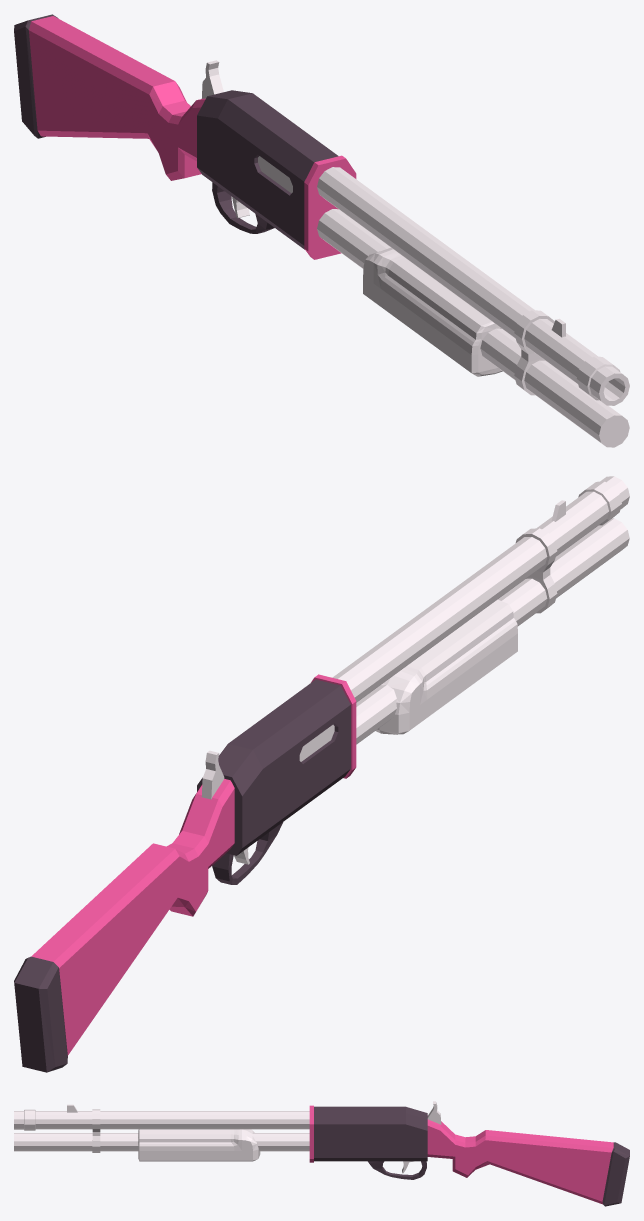
File: Shotgun_1.obj
3 views of the same model, one above another, from view 1: azimuth 30°, elevation 25°; view 2: azimuth 150°, elevation 25°; view 3: azimuth 270°, elevation 25° (orthographic). The views are drawn at different scales.
Visible parts, largest first — view 1: Body, Accent, Hardware; view 2: Body, Hardware, Accent; view 3: Body, Accent, Hardware.
Part boxes in pixels (bbox=[...]): Body: bbox=[201, 60, 629, 447]; Accent: bbox=[29, 16, 356, 259]; Hardware: bbox=[14, 14, 338, 249]; Body: bbox=[201, 476, 629, 864]; Hardware: bbox=[14, 679, 350, 1072]; Accent: bbox=[31, 674, 356, 1054]; Body: bbox=[14, 1101, 441, 1173]; Accent: bbox=[309, 1105, 613, 1204]; Hardware: bbox=[314, 1106, 629, 1206].
Size of the model in its own units: 0.2458 by 0.94 by 5.2.
